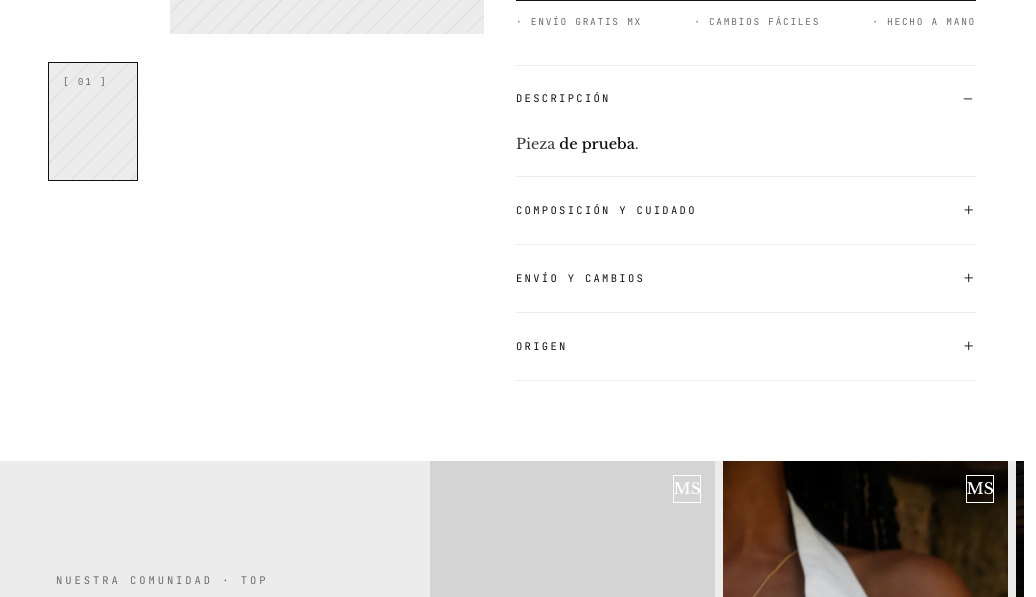
Scenario: ProductTemplate accordion content › falls back to house copy when a metafield is unset
(page scrolled)
Click the button "Origen +": coordinates (542, 346) [516, 313, 976, 380]
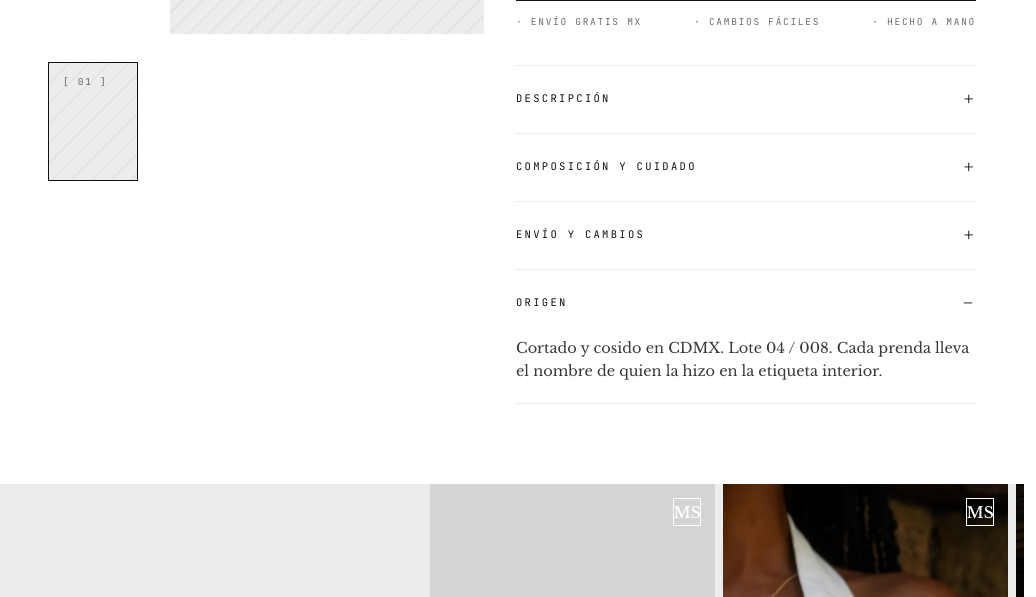
Now the text "Cortado y cosido en CDMX" is shown, box [516, 339, 969, 380]
